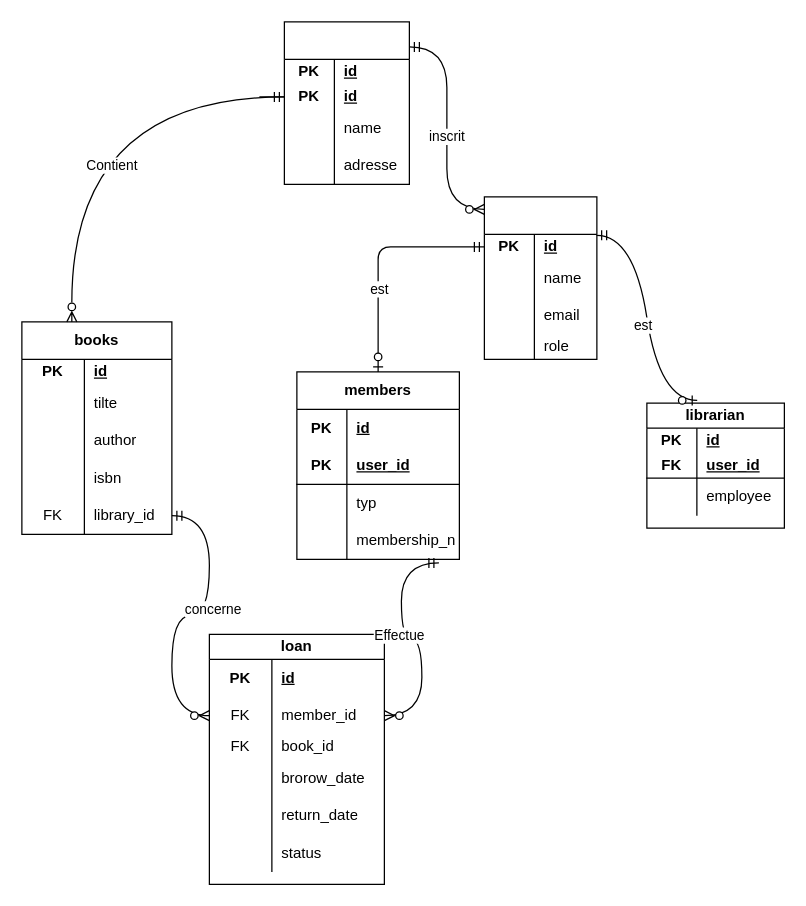
Image size: 806x906. Some labels were removed from this diagram. The box of each missing label's shape, as (x1, y1, x2, y2) in pixels:
Library: (283, 21, 409, 184)
users: (483, 196, 597, 359)
